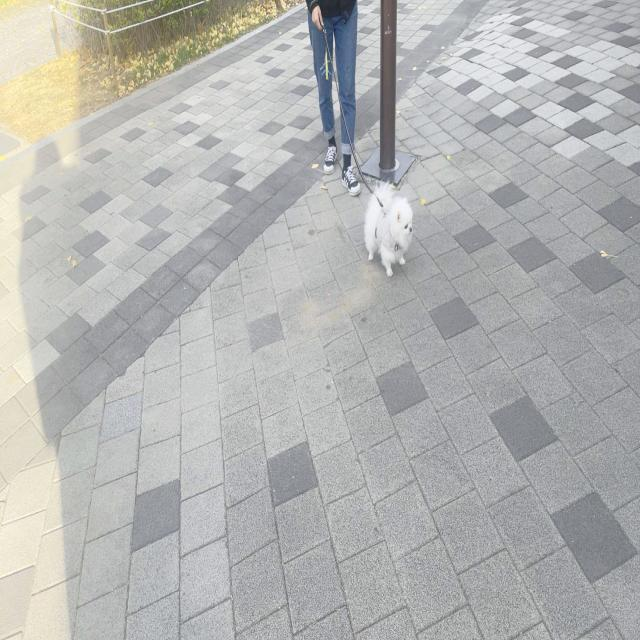Leashed_Dog: (308, 6, 413, 276)
